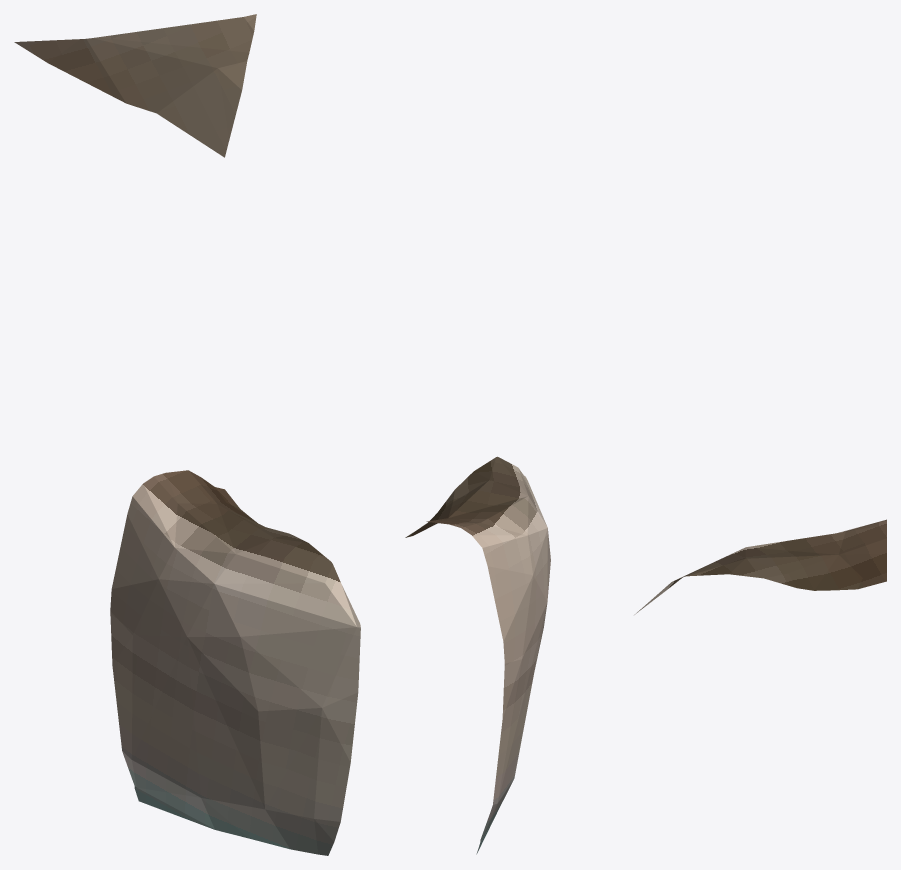
The picture shows the model from 3 angles, left to right: view 1: azimuth 30°, elevation 25°; view 2: azimuth 150°, elevation 25°; view 3: azimuth 270°, elevation 25°; orthographic projection. The views are drawn at different scales.
Size of the model in its own units: 11.98 by 42.87 by 13.39.
Materials: 1 (1 with a texture image).
